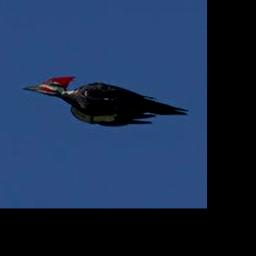Woodpecker: (23, 76, 189, 126)
